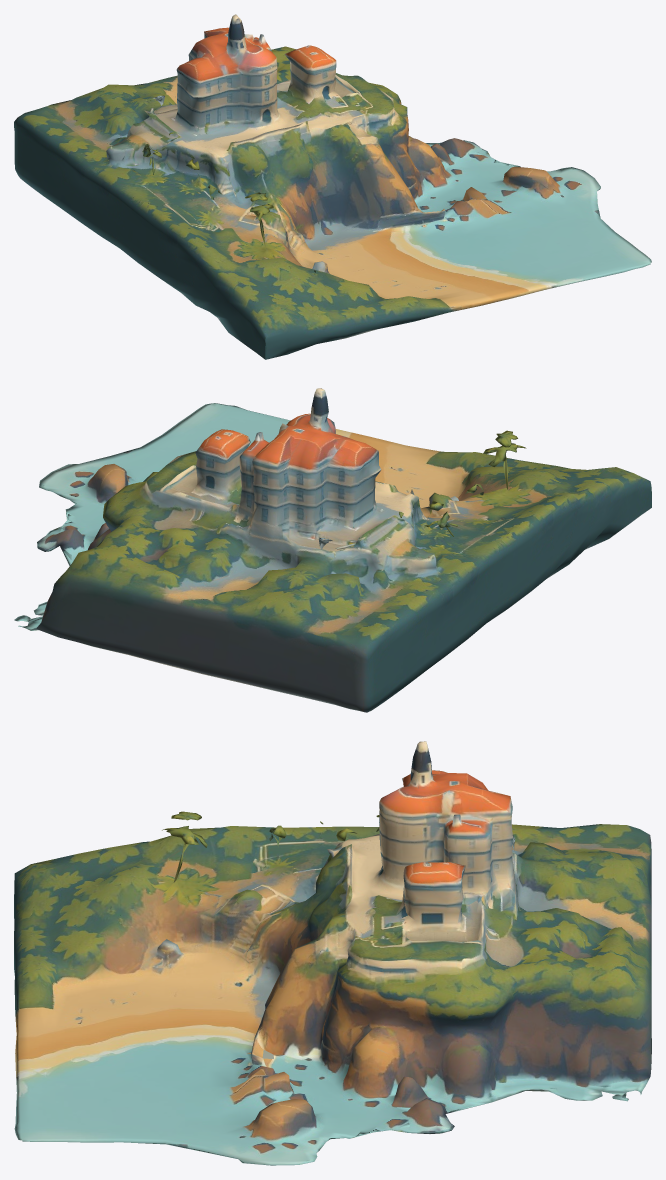
File: biarriz.glb
3 views of the same model, one above another, from view 1: azimuth 30°, elevation 25°; view 2: azimuth 150°, elevation 25°; view 3: azimuth 270°, elevation 25° (orthographic). The views are drawn at different scales.
Parts seen in each view (by area): view 1: tripo_node_750cb6a9-cf4e-40fc-94e6-6a0d3c0b40f8; view 2: tripo_node_750cb6a9-cf4e-40fc-94e6-6a0d3c0b40f8; view 3: tripo_node_750cb6a9-cf4e-40fc-94e6-6a0d3c0b40f8.
Part boxes in pixels (x1=…): tripo_node_750cb6a9-cf4e-40fc-94e6-6a0d3c0b40f8: x1=14, y1=14, x2=651, y2=359; tripo_node_750cb6a9-cf4e-40fc-94e6-6a0d3c0b40f8: x1=14, y1=388, x2=651, y2=712; tripo_node_750cb6a9-cf4e-40fc-94e6-6a0d3c0b40f8: x1=14, y1=741, x2=651, y2=1165.
Bounding box in the file's own units: 0.9802 × 0.4204 × 0.9924.
Materials: 1 (1 with a texture image).
